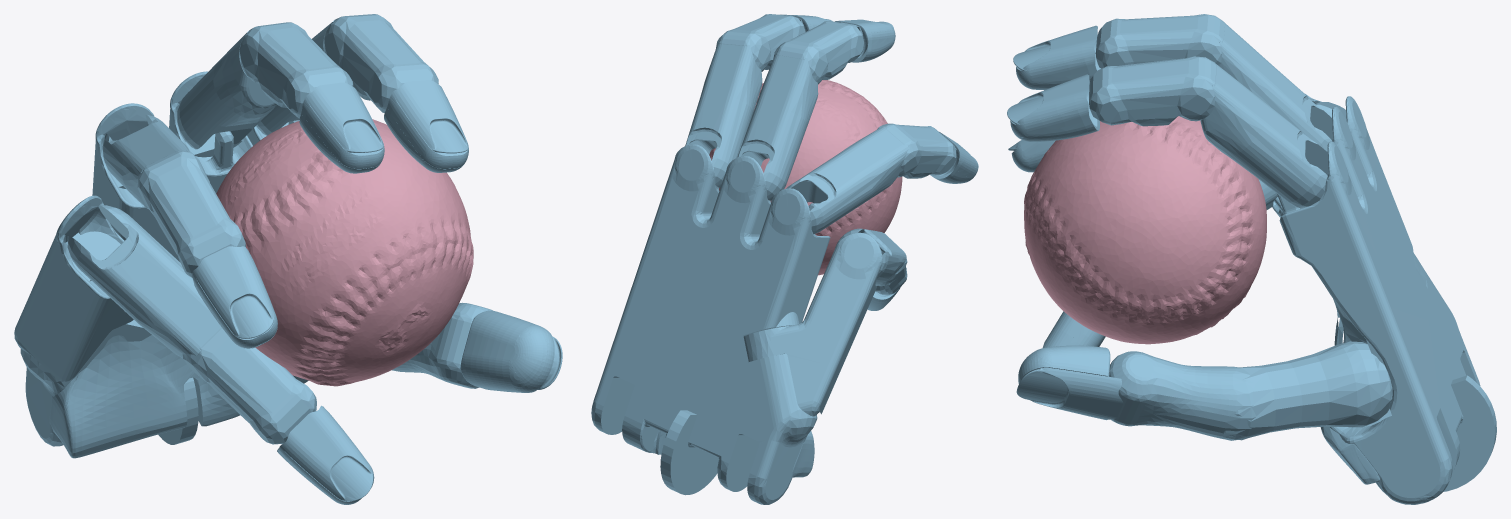
The picture shows the model from 3 angles, left to right: view 1: azimuth 30°, elevation 25°; view 2: azimuth 150°, elevation 25°; view 3: azimuth 270°, elevation 25°; orthographic projection. The views are drawn at different scales.
Visible parts, largest first — view 1: world, baseball.stl; view 2: world, baseball.stl; view 3: world, baseball.stl.
Part boxes in pixels (x1,y1,x2,y2): world: [14, 14, 562, 504]; baseball.stl: [216, 119, 473, 386]; world: [591, 14, 978, 504]; baseball.stl: [709, 80, 902, 275]; world: [1007, 14, 1496, 504]; baseball.stl: [1024, 116, 1266, 344].
Bounding box in the file's own units: 0.1113 × 0.1525 × 0.1464.
